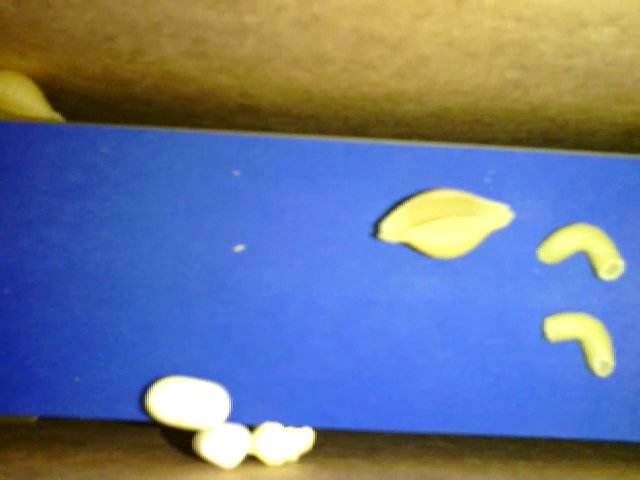elbow: (536, 222, 628, 284), (542, 311, 619, 382)
shell: (372, 180, 516, 260), (3, 69, 69, 125)
